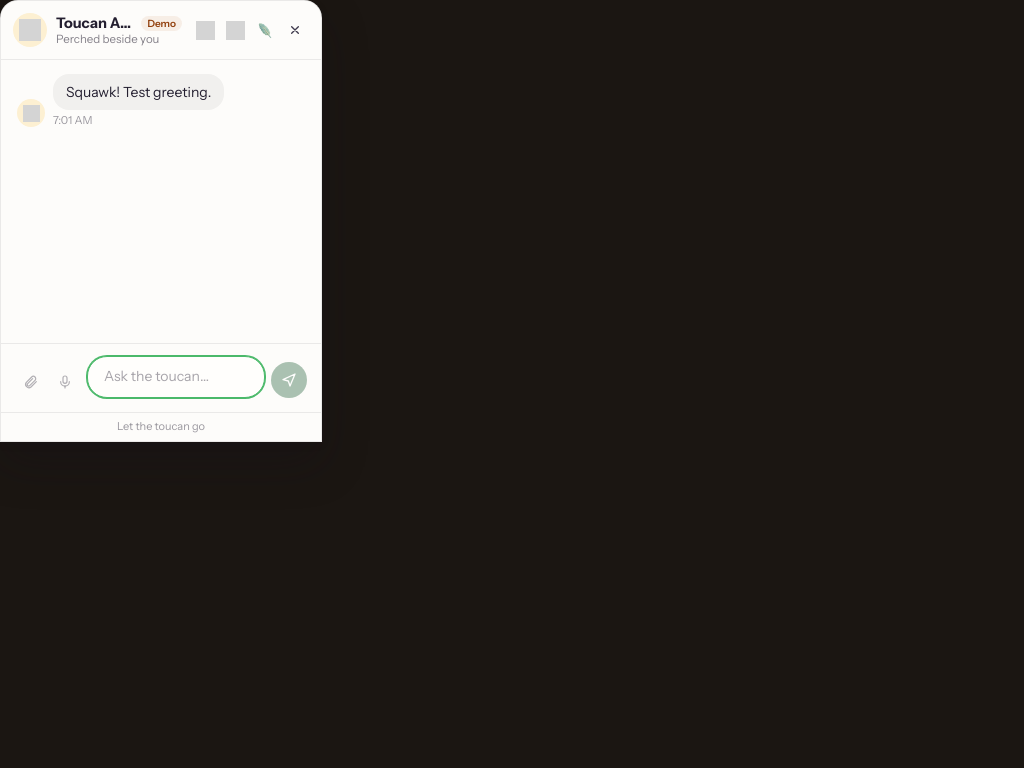
Test: Toucan T9 production polish › memory controls › shows an empty state that points at the explicit remember command
What coordinates should you click on to do the following:
click the button named "What the toucan remembers"
I would click on:
 (235, 30)
Its box is top-left (221, 16), bottom-right (249, 44).
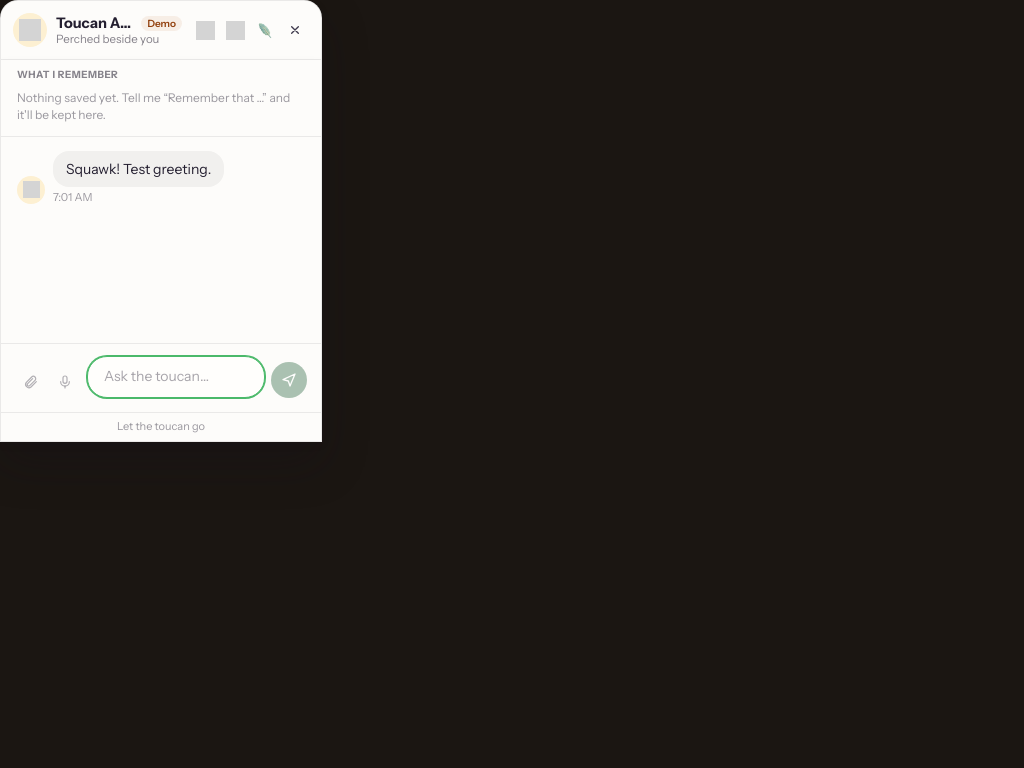
Expected: the text "Remember that" is shown, top-left (17, 90), bottom-right (290, 122)
